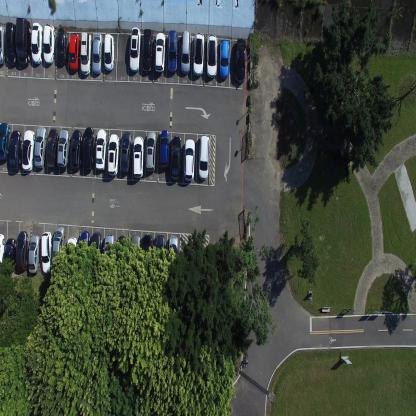car: (15, 16, 31, 66), (51, 225, 65, 272), (15, 230, 29, 273), (3, 237, 17, 280), (30, 21, 43, 65), (22, 128, 35, 172), (9, 128, 22, 172), (234, 36, 246, 82), (129, 26, 141, 72), (198, 134, 210, 180), (170, 134, 182, 180), (82, 126, 94, 172), (69, 128, 82, 170), (40, 231, 53, 273), (34, 127, 47, 168), (91, 31, 103, 75), (80, 31, 92, 75), (183, 138, 195, 182), (132, 134, 144, 178), (120, 130, 132, 174), (45, 128, 58, 168), (193, 30, 204, 77), (107, 132, 119, 175), (95, 128, 107, 171), (66, 235, 78, 278), (206, 32, 217, 78), (154, 30, 166, 72), (43, 22, 55, 64), (57, 128, 69, 169), (141, 233, 153, 274), (90, 231, 102, 272), (180, 29, 191, 73), (5, 21, 16, 65), (218, 39, 230, 79), (68, 32, 80, 72), (28, 234, 40, 274), (167, 29, 178, 72), (145, 131, 156, 174), (103, 32, 115, 71), (103, 233, 115, 272), (142, 28, 152, 73), (167, 235, 178, 275), (154, 235, 165, 275), (159, 128, 169, 170), (57, 27, 67, 67), (79, 231, 89, 271), (130, 233, 140, 272), (116, 235, 127, 269), (0, 122, 9, 162), (0, 24, 5, 66), (0, 233, 5, 273)
